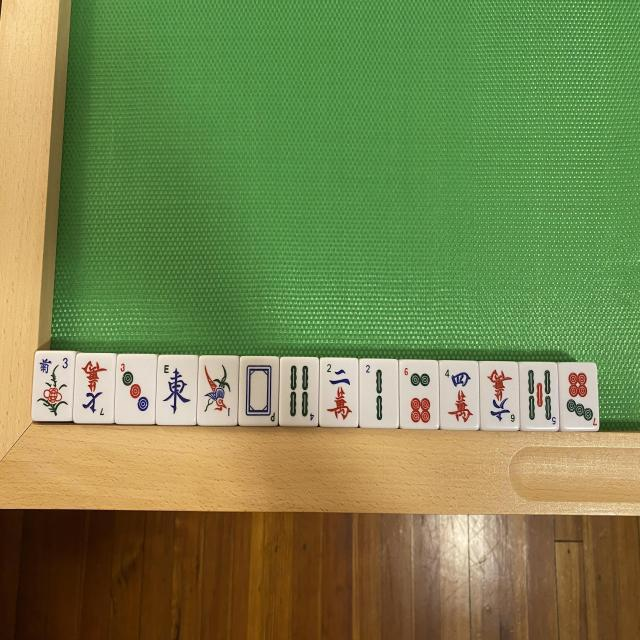bf3: (36, 354, 74, 418)
hdw: (241, 357, 281, 425)
hwe: (160, 354, 200, 422)
sb1: (199, 357, 239, 427)
sb2: (359, 359, 396, 427)
sb4: (280, 357, 318, 425)
sb5: (522, 362, 560, 428)
sc2: (322, 359, 360, 427)
sc4: (443, 361, 481, 428)
sc6: (483, 366, 520, 432)
sc7: (74, 353, 113, 423)
sd3: (118, 356, 156, 424)
sd6: (401, 359, 438, 426)
sd7: (559, 364, 597, 430)
